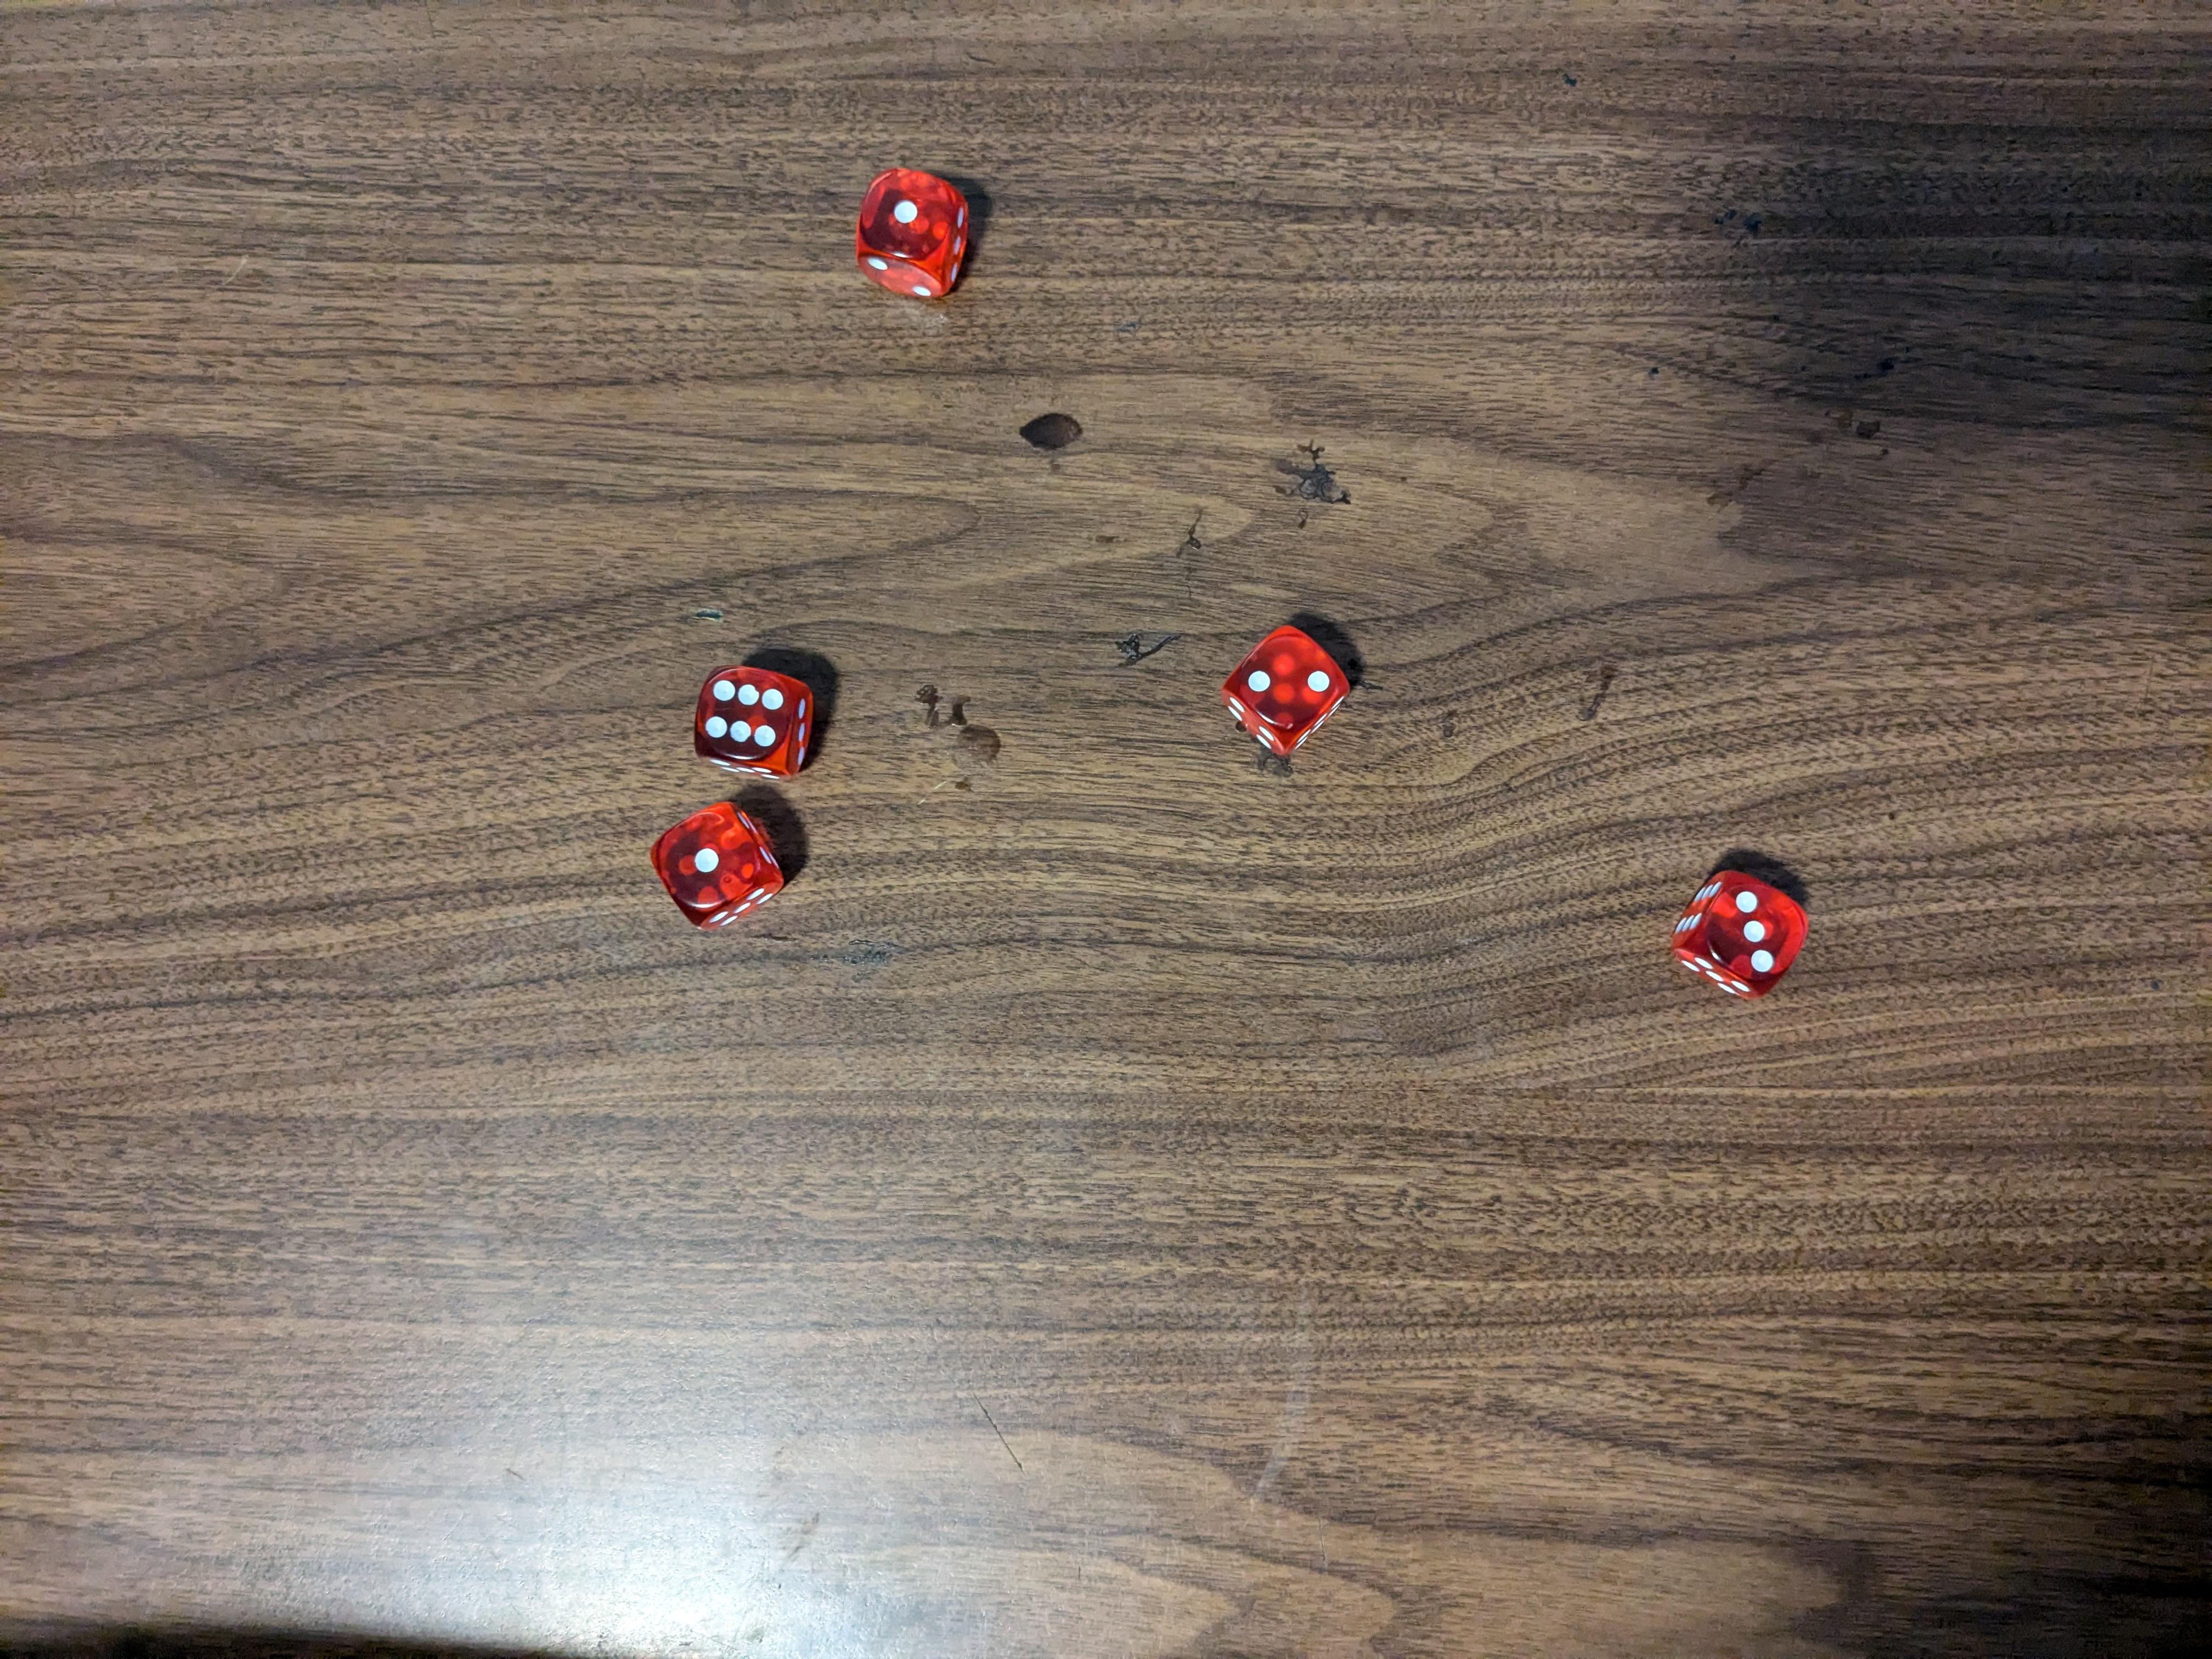one: (646, 788, 794, 929), (850, 164, 974, 300)
six: (690, 664, 815, 775)
three: (1665, 864, 1811, 1002)
two: (1217, 622, 1355, 760)
